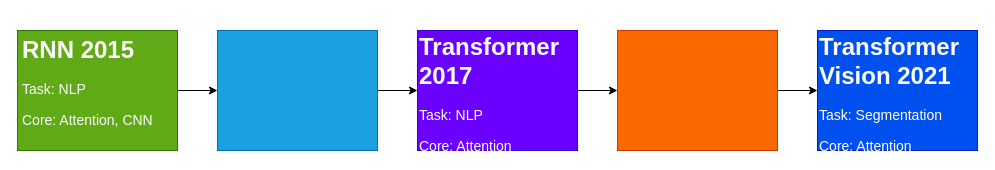
This 995x170 diagram has some shape labels left out. The shapes that lost their labels are listed below. From the top down, each one's box as (x1, y1, x2, y2) in pixels, then its label:
(216, 30, 378, 150): RNN 2016 Task: NLP Core: Attention, CNN
(616, 30, 778, 150): Transformer Vision 2021 Task: Classification Core: Attention
